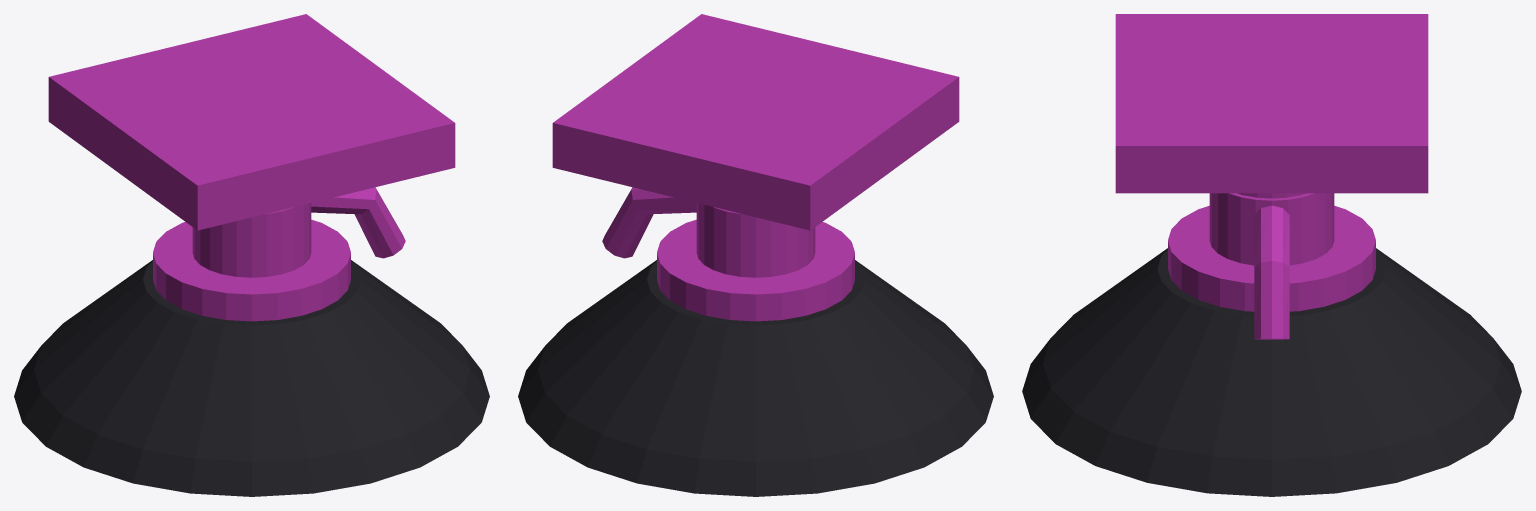
File: suction_cup.dae
The picture shows the model from 3 angles, left to right: view 1: azimuth 30°, elevation 25°; view 2: azimuth 150°, elevation 25°; view 3: azimuth 270°, elevation 25°; orthographic projection. The views are drawn at different scales.
Parts seen in each view (by area): view 1: suction_cup; view 2: suction_cup; view 3: suction_cup.
Part boxes in pixels (x1,y1,x2,y2): suction_cup: (14, 14, 489, 496); suction_cup: (518, 14, 993, 496); suction_cup: (1022, 14, 1521, 496).
Bounding box in the file's own units: 0.48 × 0.48 × 0.33.
